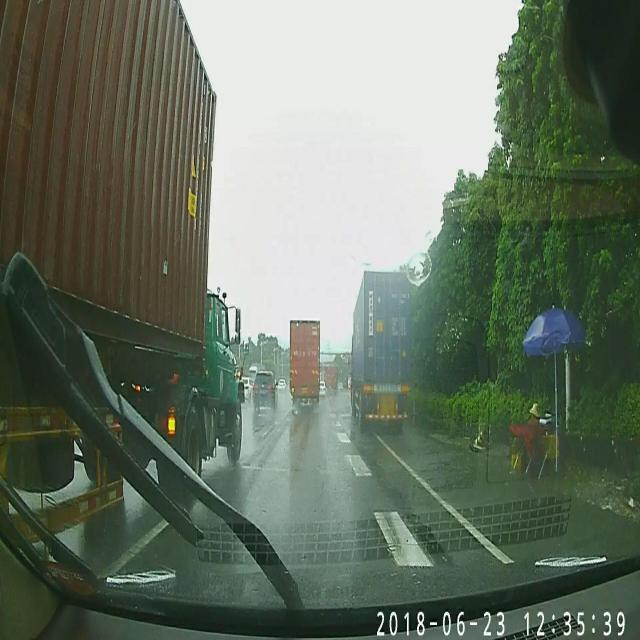car: (252, 370, 276, 417), (324, 362, 337, 394)
